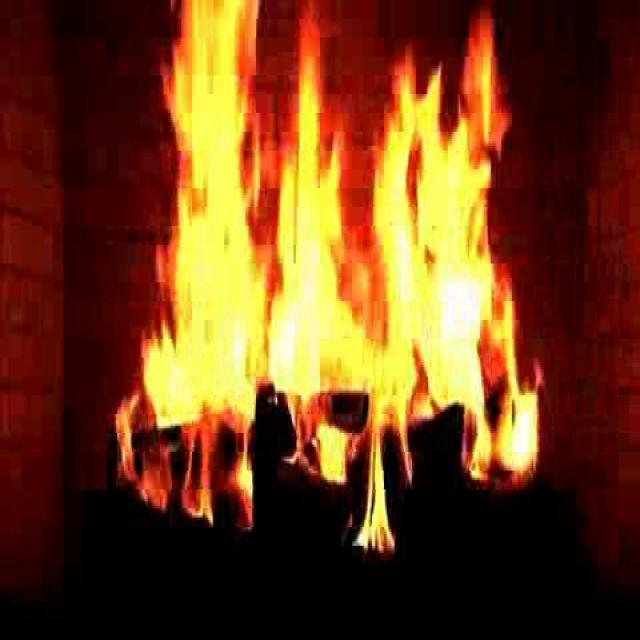Fire: (164, 40, 520, 498)
